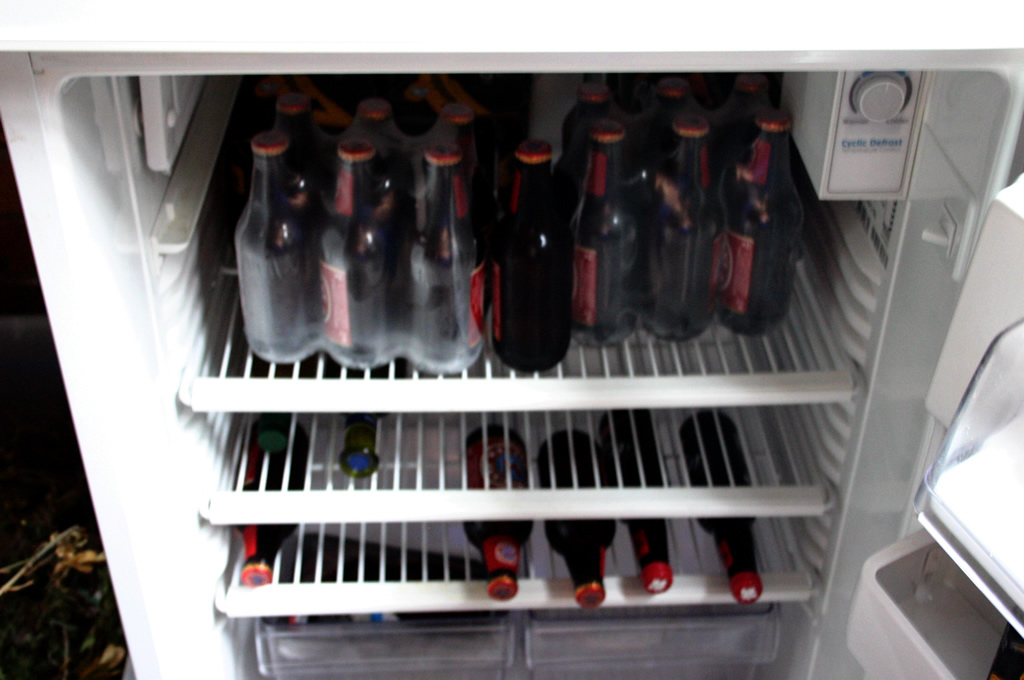refrigerator door: (943, 247, 1024, 680)
